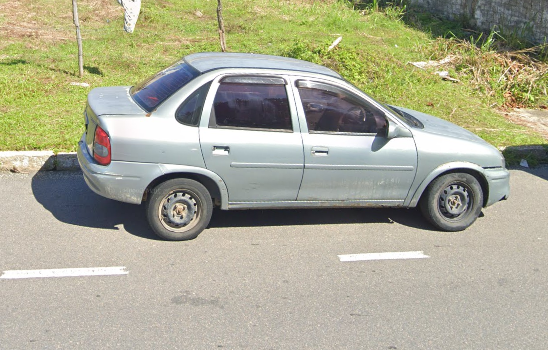car: (77, 50, 512, 241)
